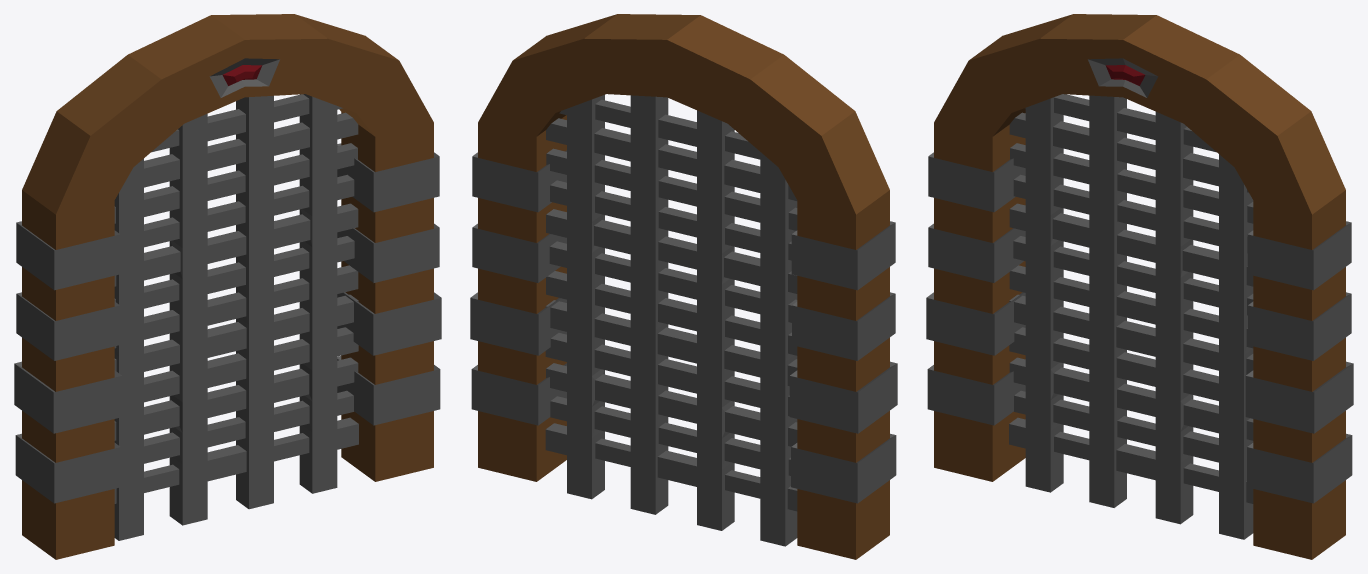
The model's file is castle door.fbx.
3 views of the same model, side by side, from view 1: azimuth 30°, elevation 25°; view 2: azimuth 150°, elevation 25°; view 3: azimuth 330°, elevation 25° (orthographic).
Visible parts, largest first — view 1: Cube, Cube.001; view 2: Cube, Cube.001; view 3: Cube, Cube.001.
Part boxes in pixels (x1,y1,x2,y2): Cube: [14, 14, 441, 559]; Cube.001: [114, 94, 358, 540]; Cube: [470, 14, 897, 559]; Cube.001: [545, 95, 797, 546]; Cube: [926, 14, 1353, 559]; Cube.001: [1009, 94, 1253, 539].
Size of the model in its own units: 832 by 993 by 147.
